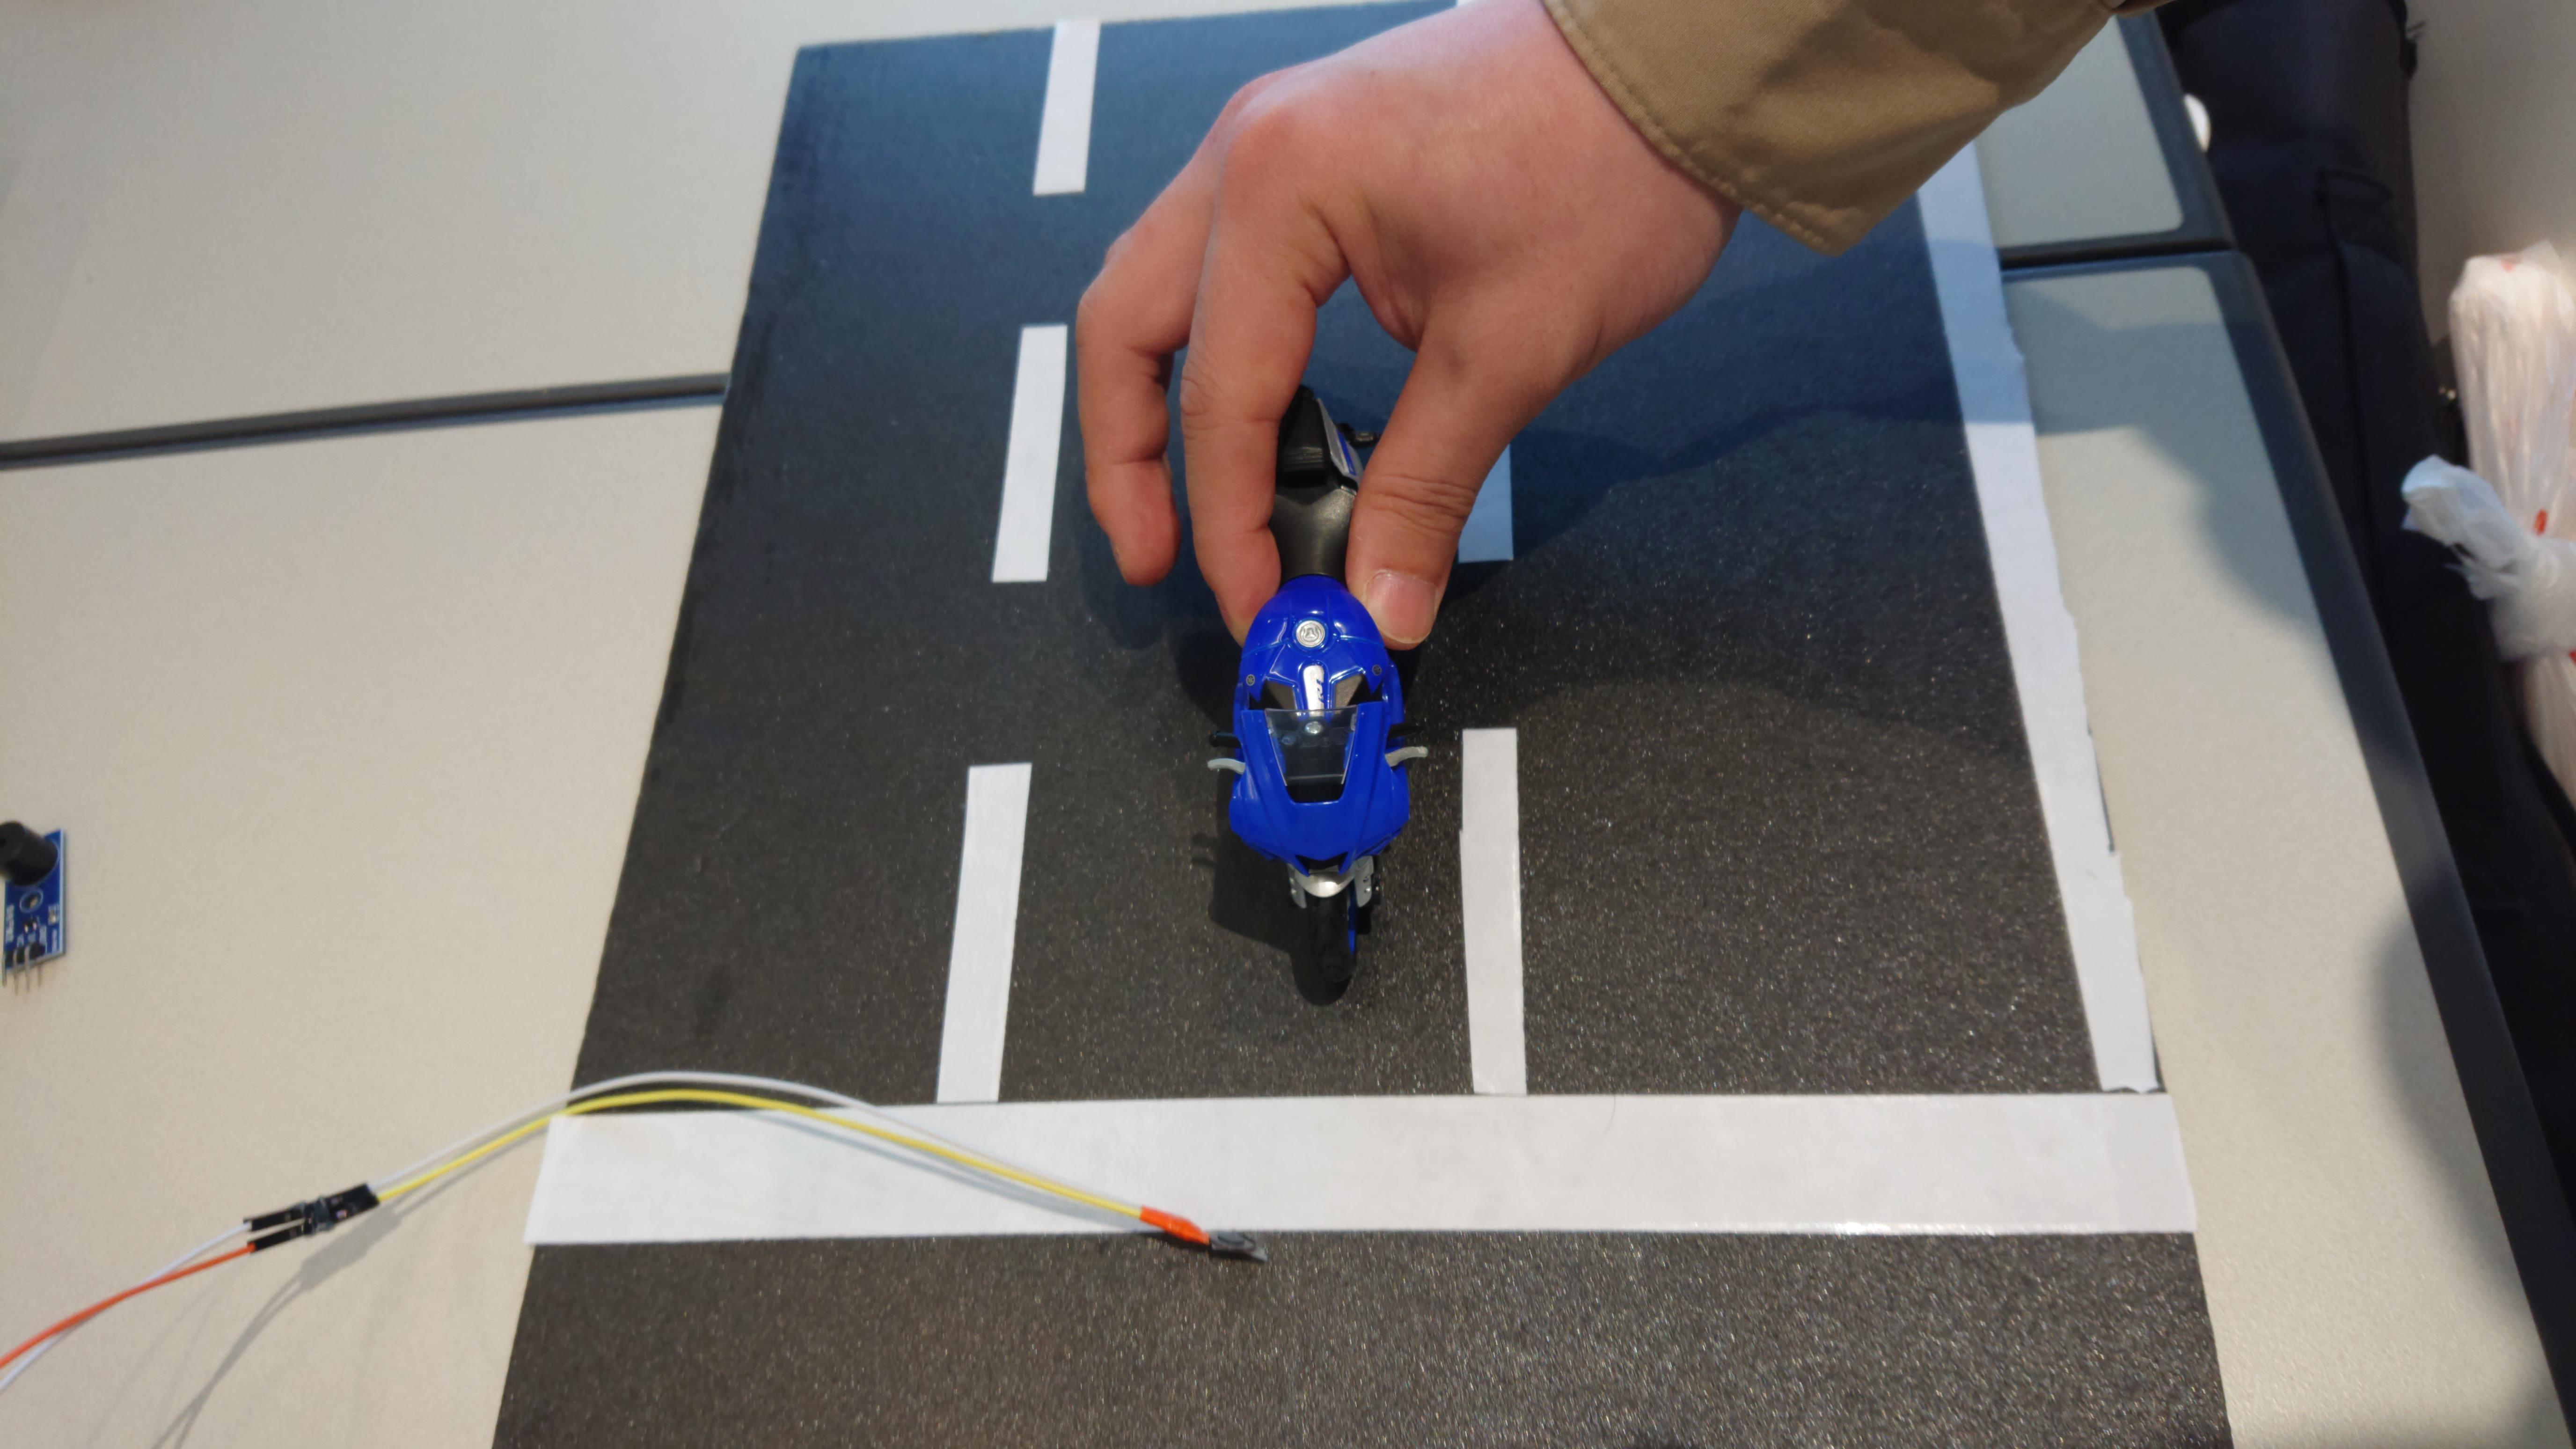Motorcycle: (1166, 386, 1449, 945)
